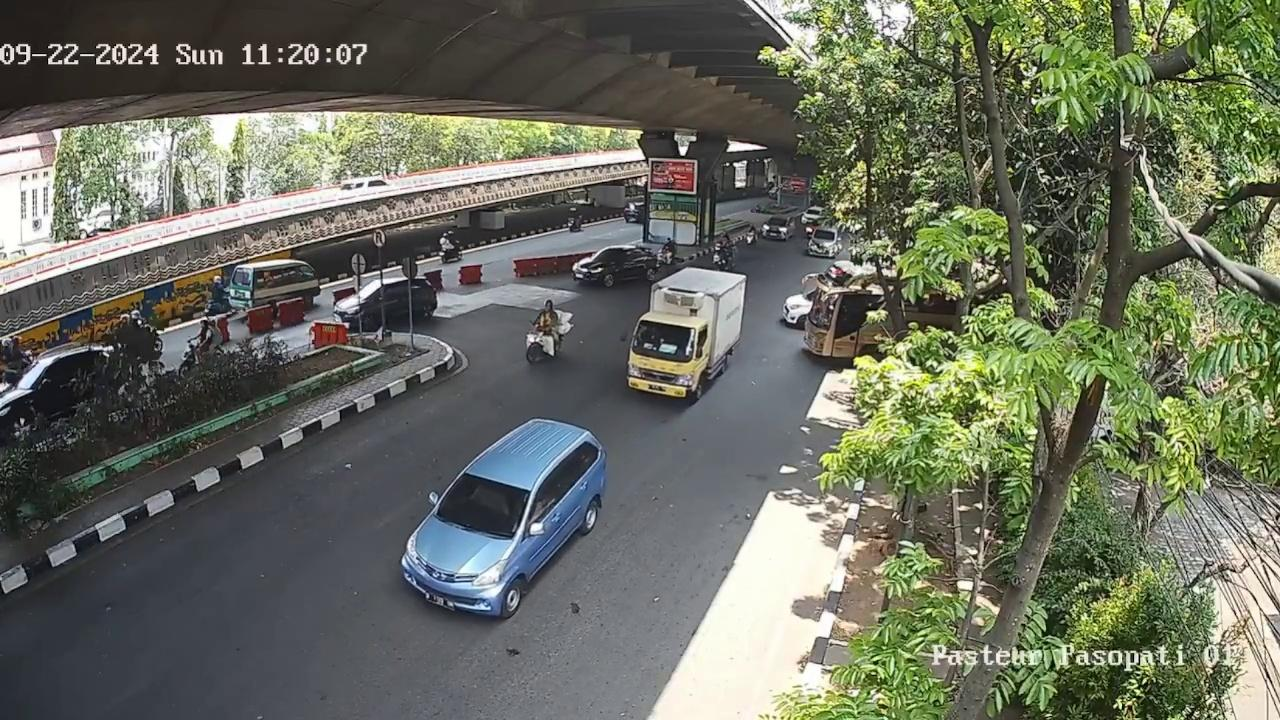tidak-pakai: (472, 485, 511, 518)
windshield: (439, 472, 533, 537), (635, 319, 695, 363)
